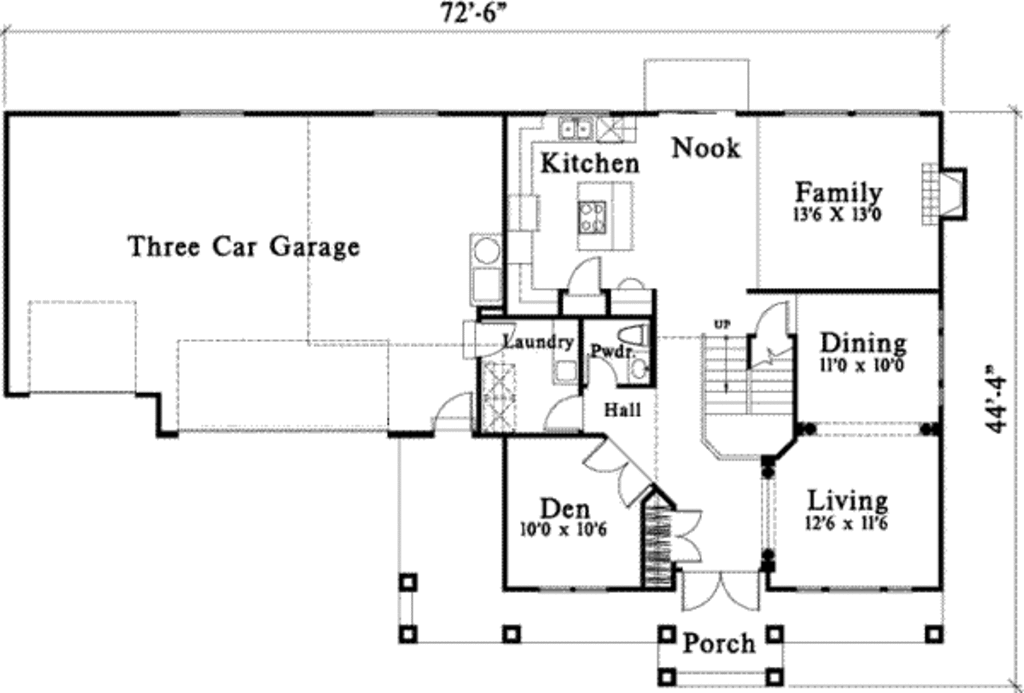door: (585, 436, 653, 509), (677, 569, 761, 612), (459, 314, 521, 361), (534, 392, 594, 433), (673, 501, 705, 566), (567, 249, 608, 298), (745, 301, 798, 337), (584, 349, 621, 388)
kitchen_bar: (569, 177, 638, 253)
large_sink: (615, 323, 653, 349)
small_sink: (627, 349, 651, 386)
twin_sink: (557, 114, 604, 149)
window: (528, 574, 613, 599), (788, 582, 833, 598), (832, 585, 917, 593)
